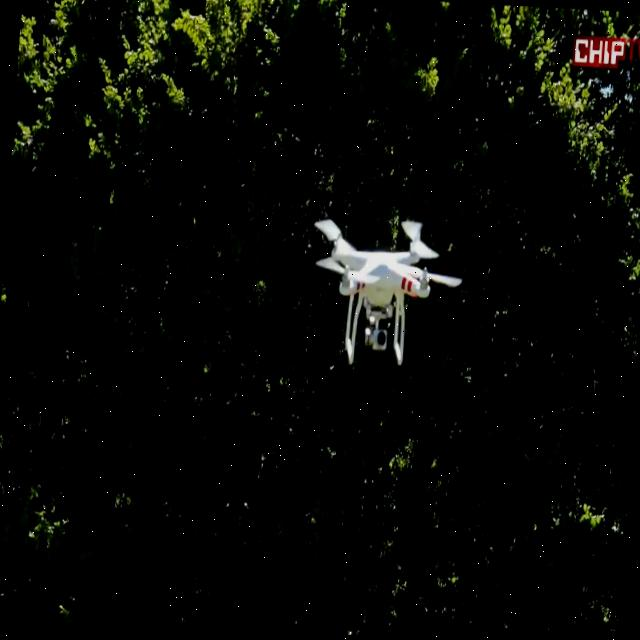drone: (302, 212, 460, 371)
